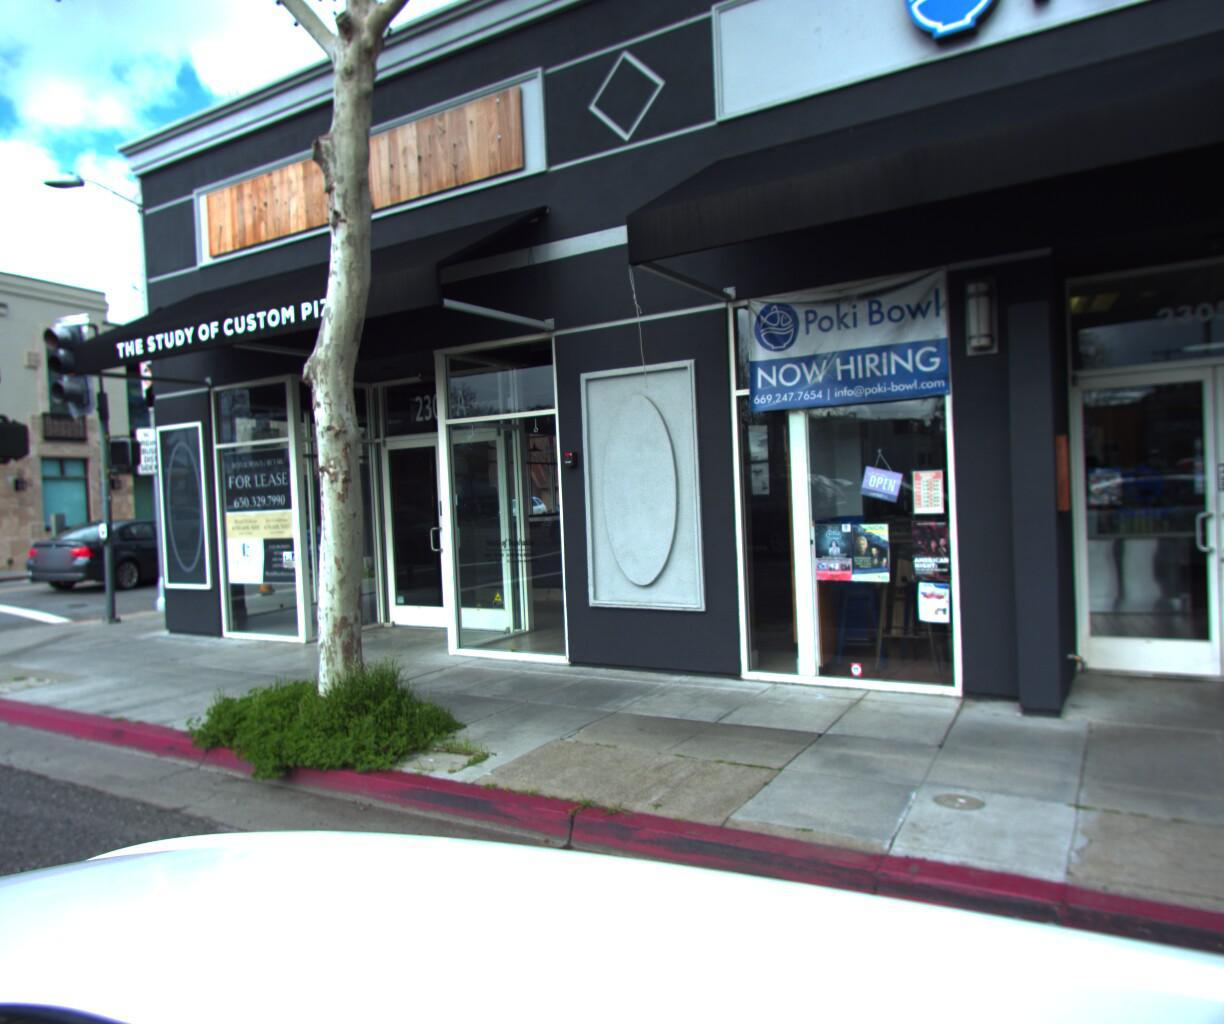car: (14, 518, 241, 605), (278, 514, 472, 589)
